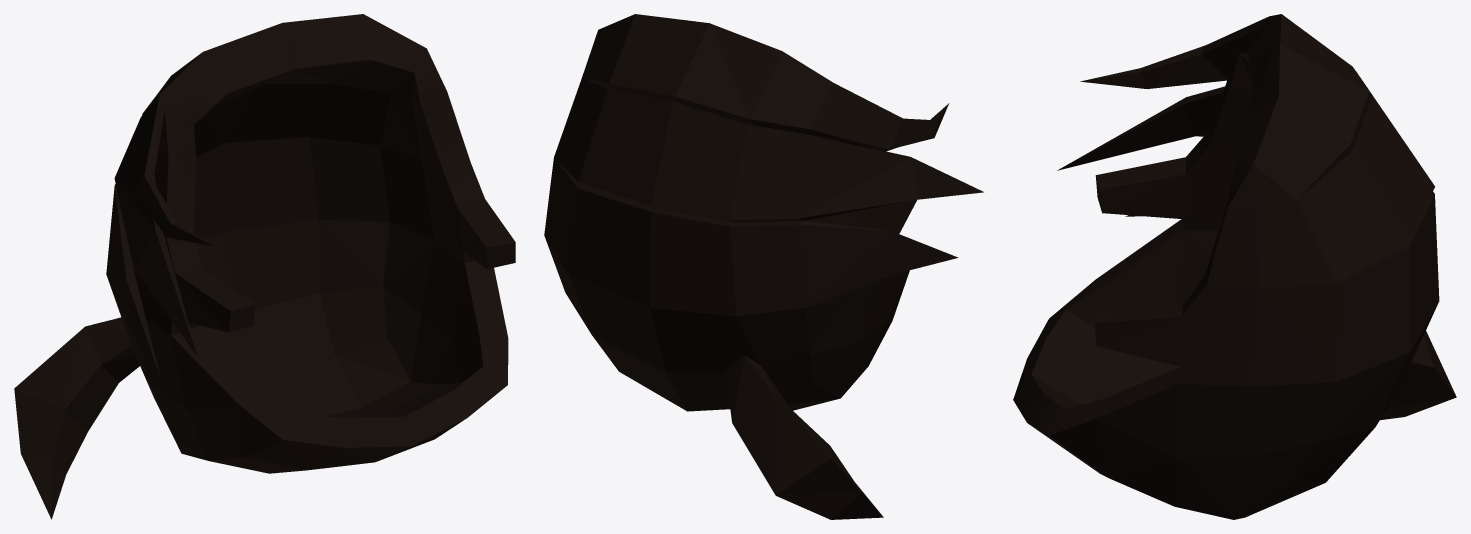
File: Hair Female 11.FBX
The picture shows the model from 3 angles, left to right: view 1: azimuth 30°, elevation 25°; view 2: azimuth 150°, elevation 25°; view 3: azimuth 270°, elevation 25°; orthographic projection. The views are drawn at different scales.
Parts seen in each view (by area): view 1: Hair Female 11; view 2: Hair Female 11; view 3: Hair Female 11.
Part boxes in pixels (x1,y1,x2,y2): Hair Female 11: (14, 14, 515, 519); Hair Female 11: (544, 14, 983, 519); Hair Female 11: (1013, 14, 1456, 519).
Size of the model in its own units: 32.11 by 37.67 by 30.81.
